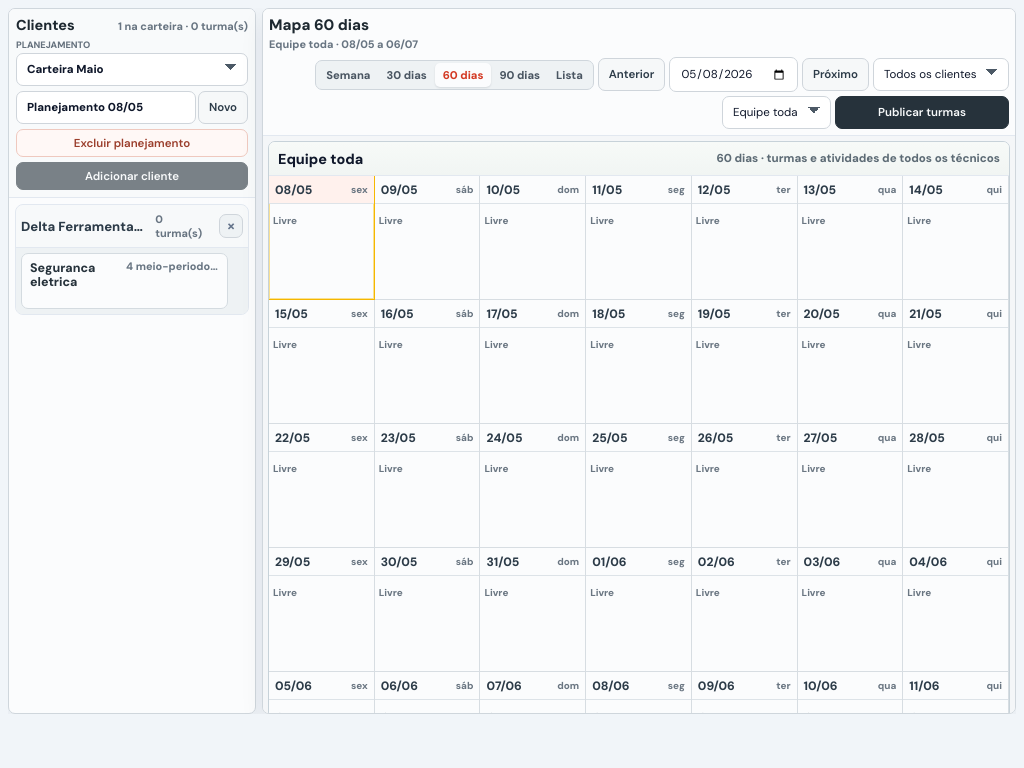
Test: PlanningPage › allows collapsing every client and removing a client from the workspace
The width and height of the screenshot is (1024, 768).
Click the button with aria-label "Recolher Delta Ferramentaria": (116, 226) 21,210 -> 211,242
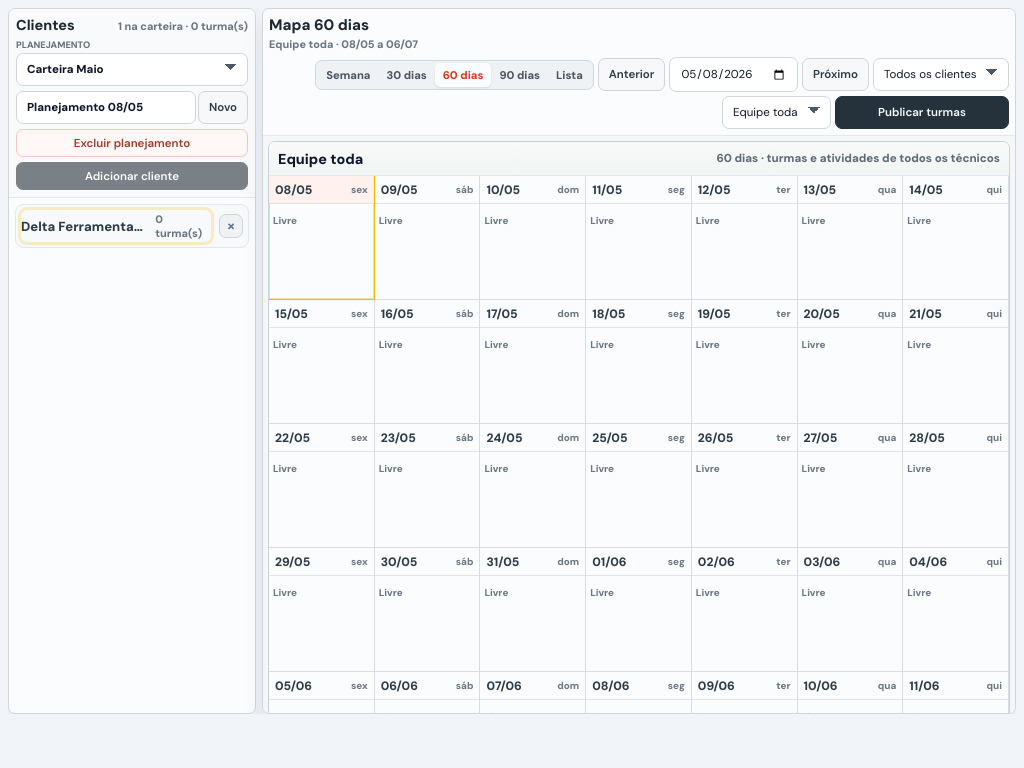
Result: the button "Seguranca eletrica" is gone
Result: the button with aria-label "Expandir Delta Ferramentaria" is shown at 21,210 -> 211,242
Click the button named "Remover Delta Ferramentaria do planejamento": (231, 226) 219,214 -> 243,238
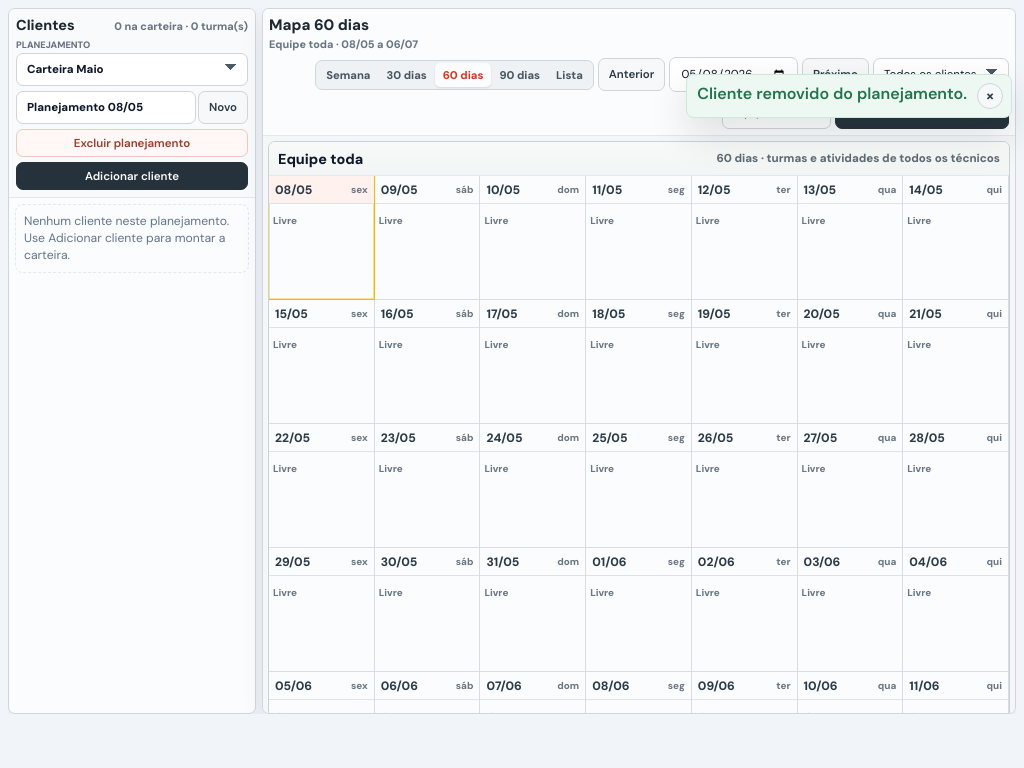
Result: the text "Cliente removido do planejamento." is shown at 697,83 -> 967,104
